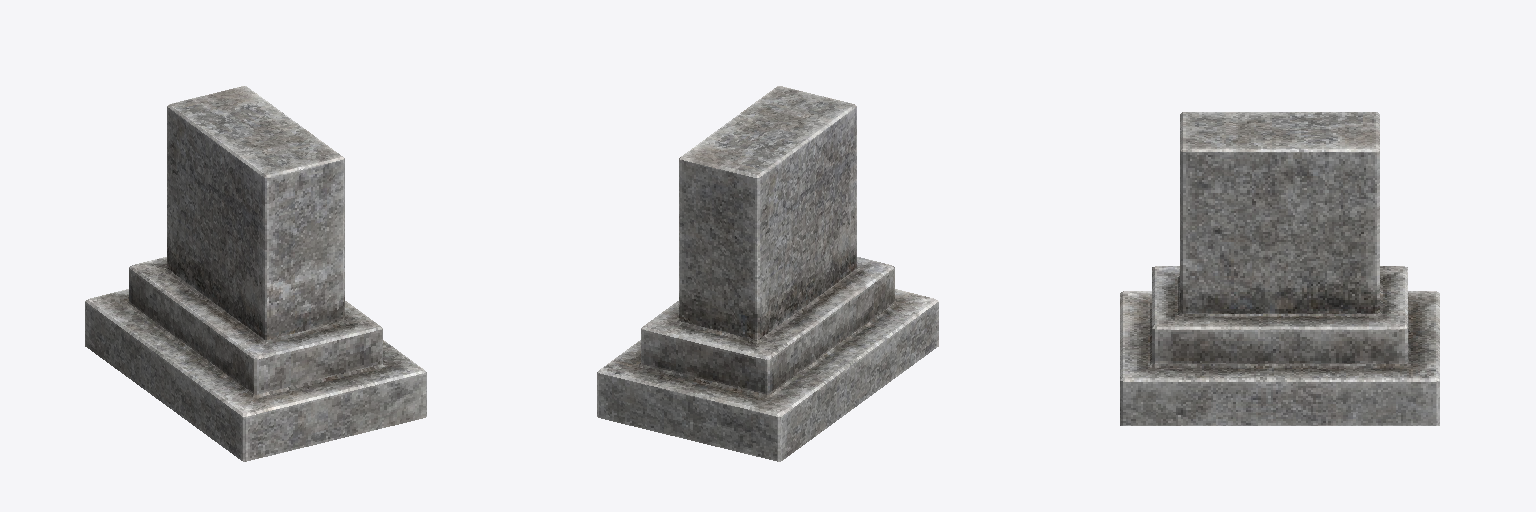
3 views of the same model, side by side, from view 1: azimuth 30°, elevation 25°; view 2: azimuth 150°, elevation 25°; view 3: azimuth 270°, elevation 25° (orthographic).
Visible parts, largest first — view 1: lapide-01_Plane; view 2: lapide-01_Plane; view 3: lapide-01_Plane.
Boxes of the visible parts, x1=… form: lapide-01_Plane: x1=85, y1=86, x2=426, y2=461; lapide-01_Plane: x1=597, y1=86, x2=938, y2=461; lapide-01_Plane: x1=1120, y1=112, x2=1439, y2=425.
Size of the model in its own units: 1 by 1.3 by 1.5.
1 materials, 1 textured.